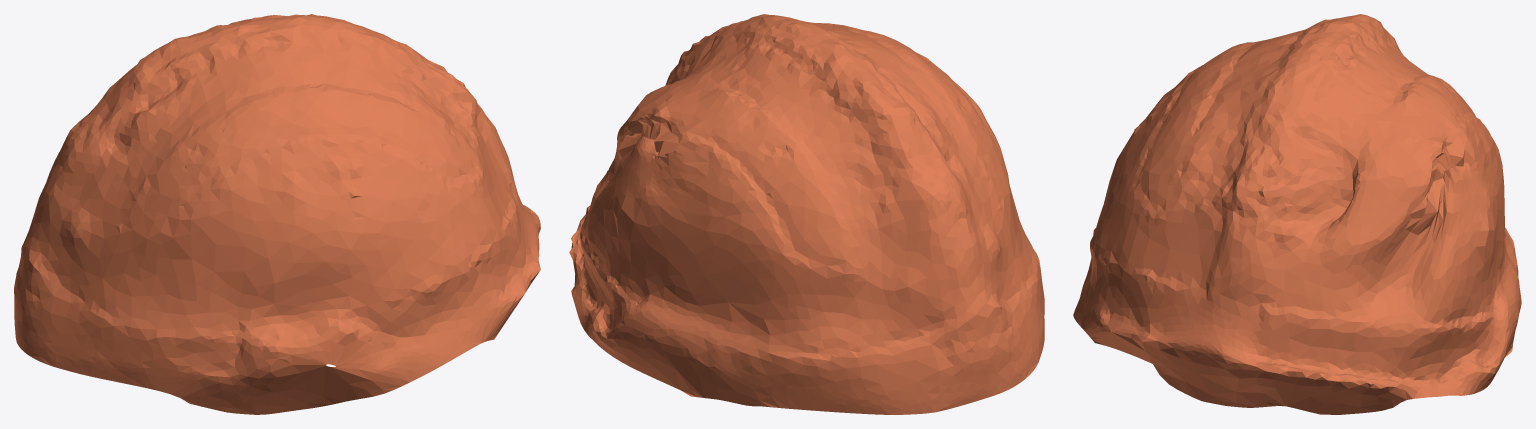
Rendered from red_helmet.glb.
The picture shows the model from 3 angles, left to right: view 1: azimuth 30°, elevation 25°; view 2: azimuth 150°, elevation 25°; view 3: azimuth 270°, elevation 25°; orthographic projection. The views are drawn at different scales.
Parts seen in each view (by area): view 1: world; view 2: world; view 3: world.
Part boxes in pixels (x1,y1,x2,y2): world: (14,14,540,414); world: (569,14,1044,414); world: (1073,14,1521,414).
Bounding box in the file's own units: 1 × 0.6381 × 0.8514.
